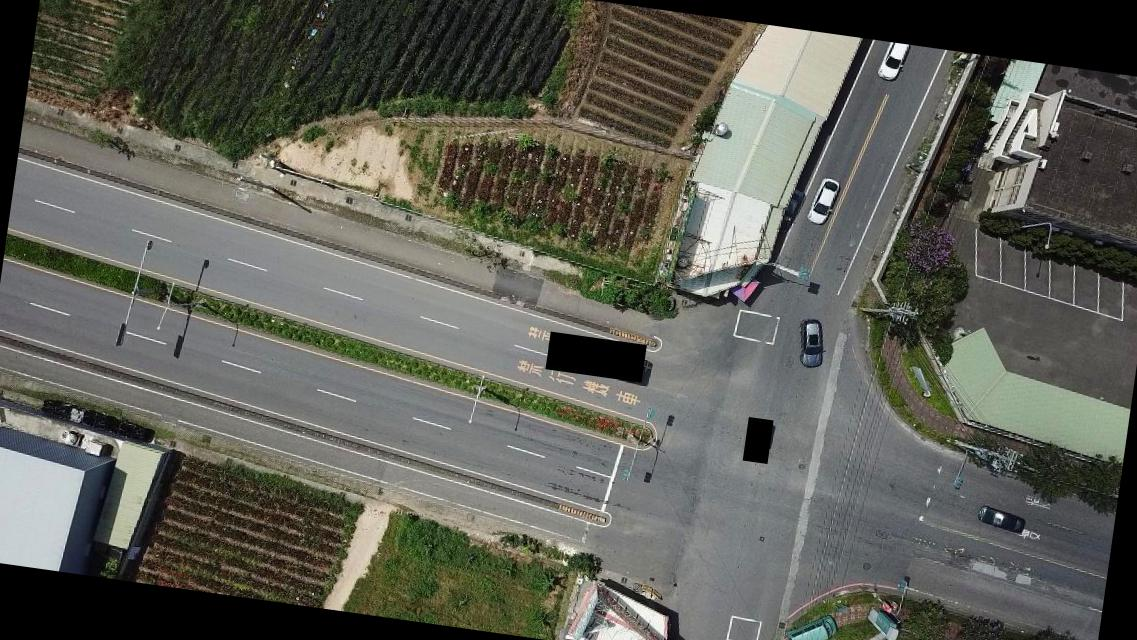vehicle: (792, 318, 828, 371), (805, 175, 840, 229), (872, 40, 911, 84), (974, 504, 1029, 534), (783, 611, 839, 639)
